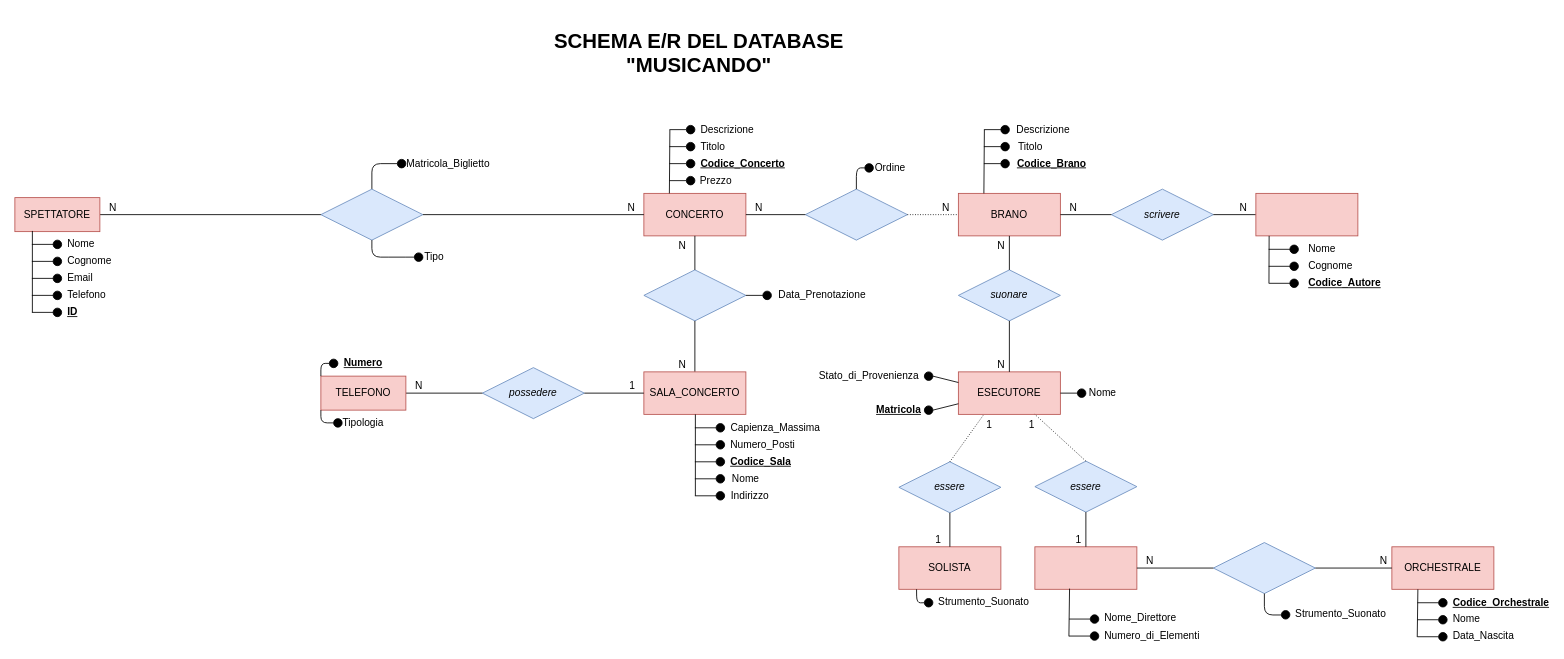
Image size: 1564x659. Some labels were removed from this diagram. Here are the shapes that lost their labels. From the top down, the centre of each, then its label:
At (371,214): "Aquistare".
At (856,214): "programmare".
At (1306,214): "AUTORE".
At (694,295): "prenotare".
At (1085,567): "ORCHESTRA".
At (1264,568): "appartenere".
